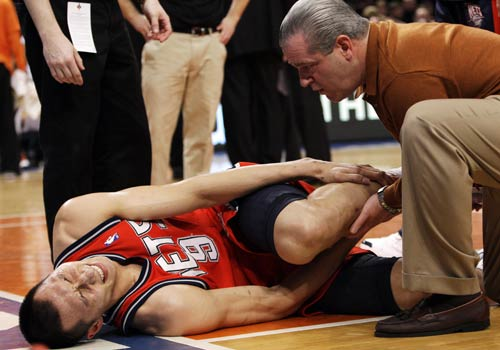fall: (11, 153, 489, 338)
